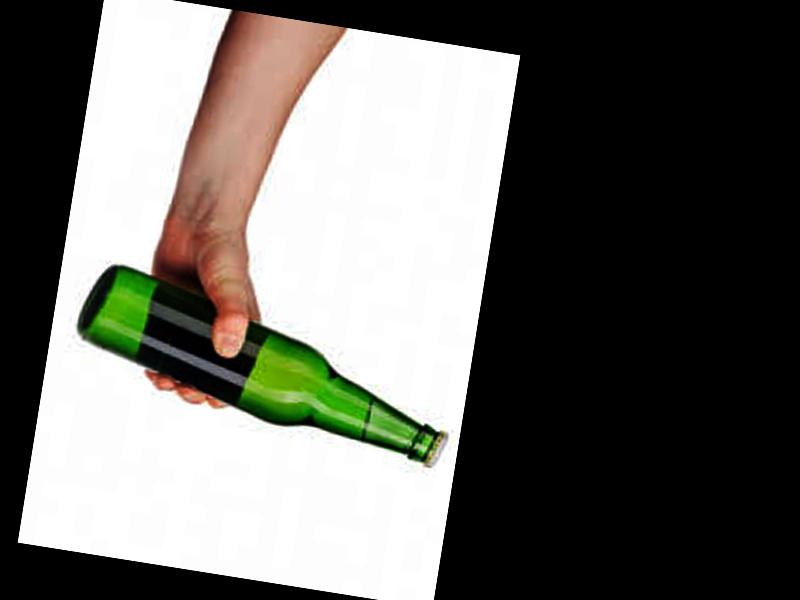Beer: (64, 260, 466, 469)
